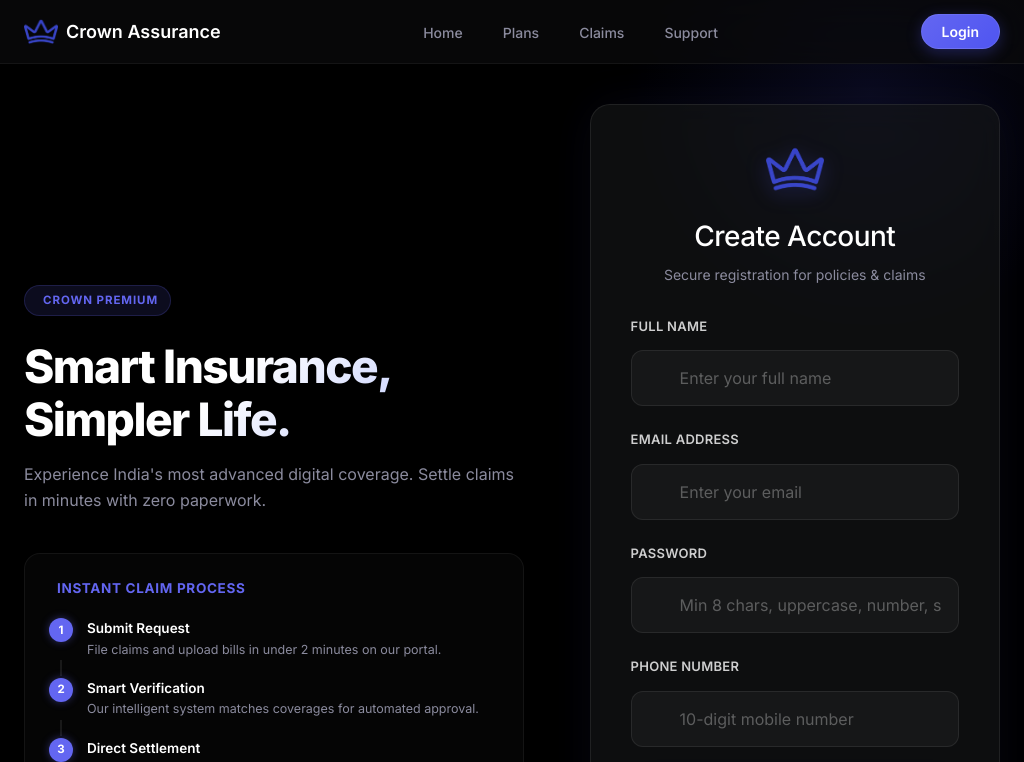
Test: Register Page › shows validation error for empty full name
This screenshot has width=1024, height=762.
Type "test@test.com" into the field with placeholder "Enter your email" at (795, 492), box [631,464,959,520]
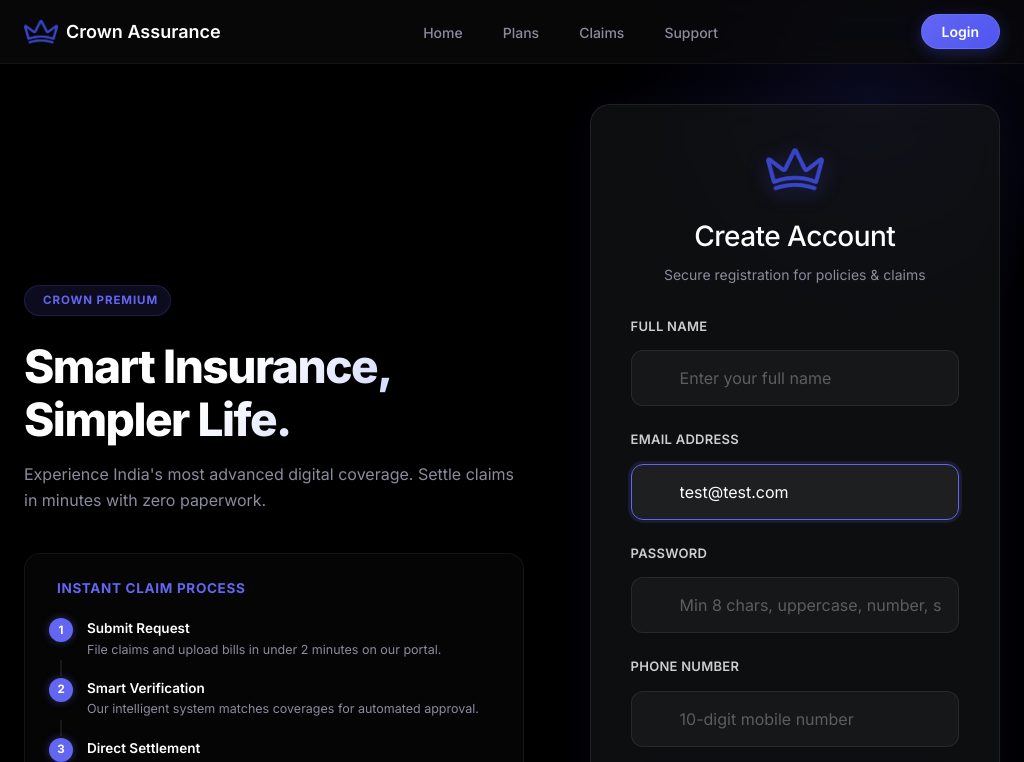
Type "ValidPass@123" into the password field with placeholder "Min 8 chars, uppercase, number, special char" at (795, 605), box [631,577,959,633]
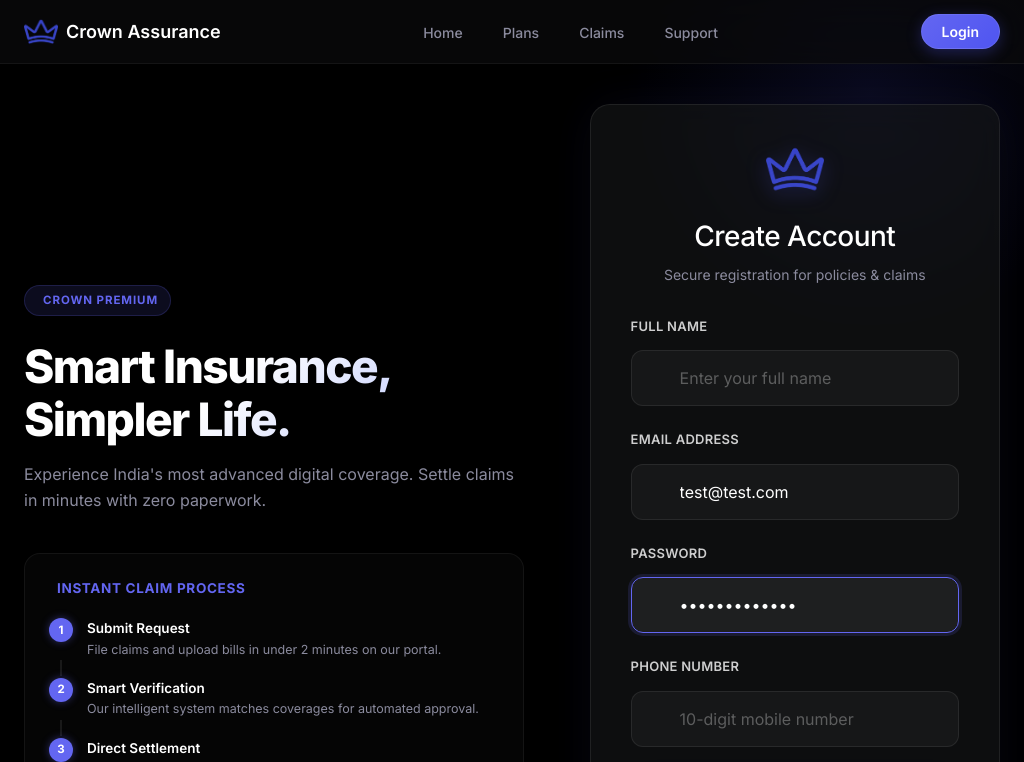
Type "9876543210" into the field with placeholder "10-digit mobile number" at (795, 719), box [631,691,959,747]
(page scrolled)
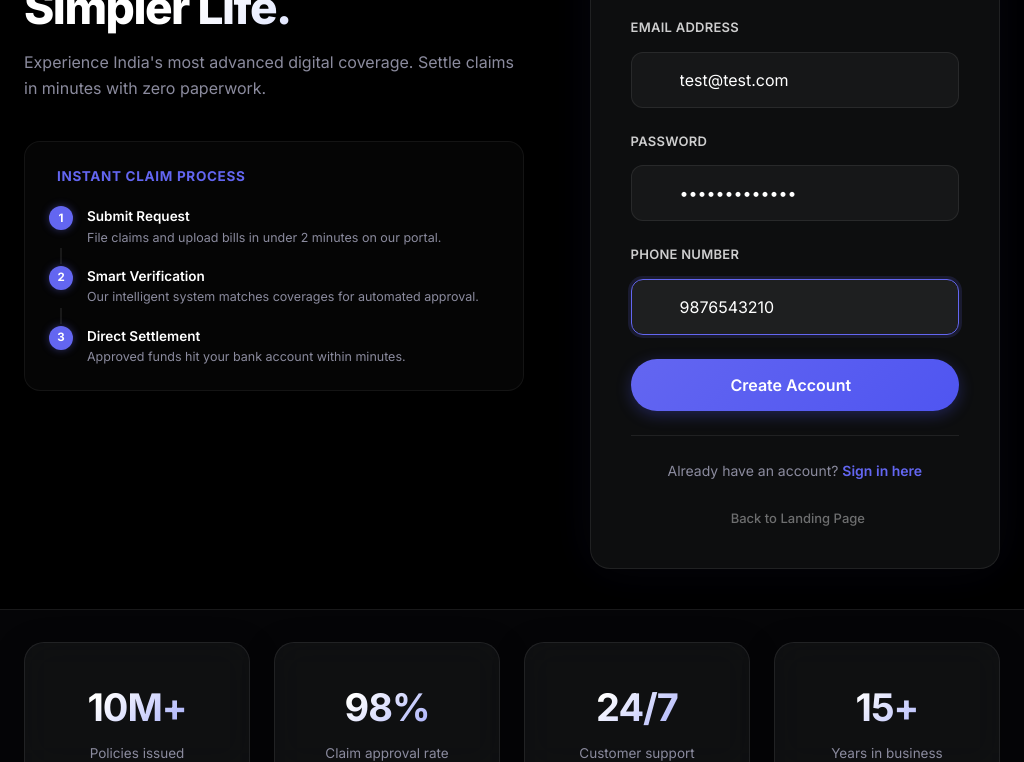
Click the button "Create Account" at (795, 385), box [631,359,959,411]
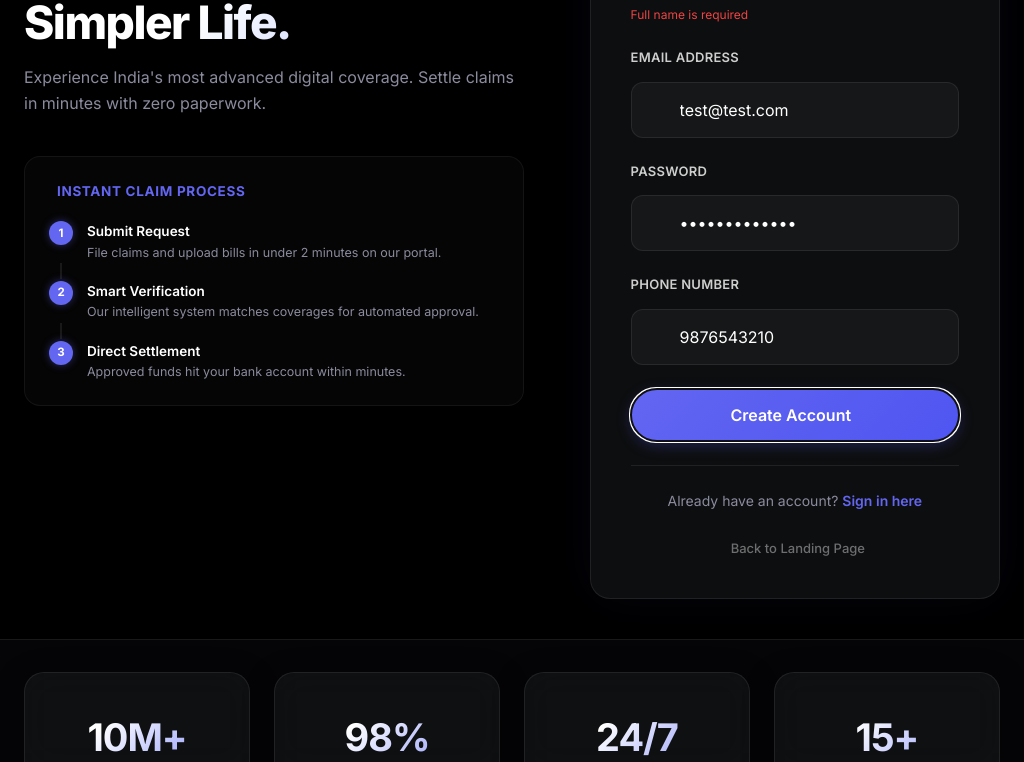
Result: the text "Full name is required" is shown at [631,7,748,22]
